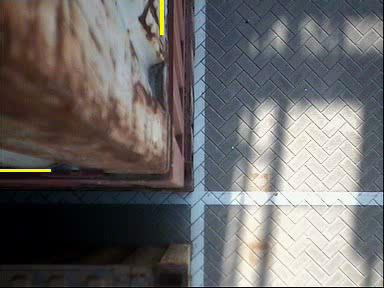groundmarker_2: (200, 162, 243, 225)
